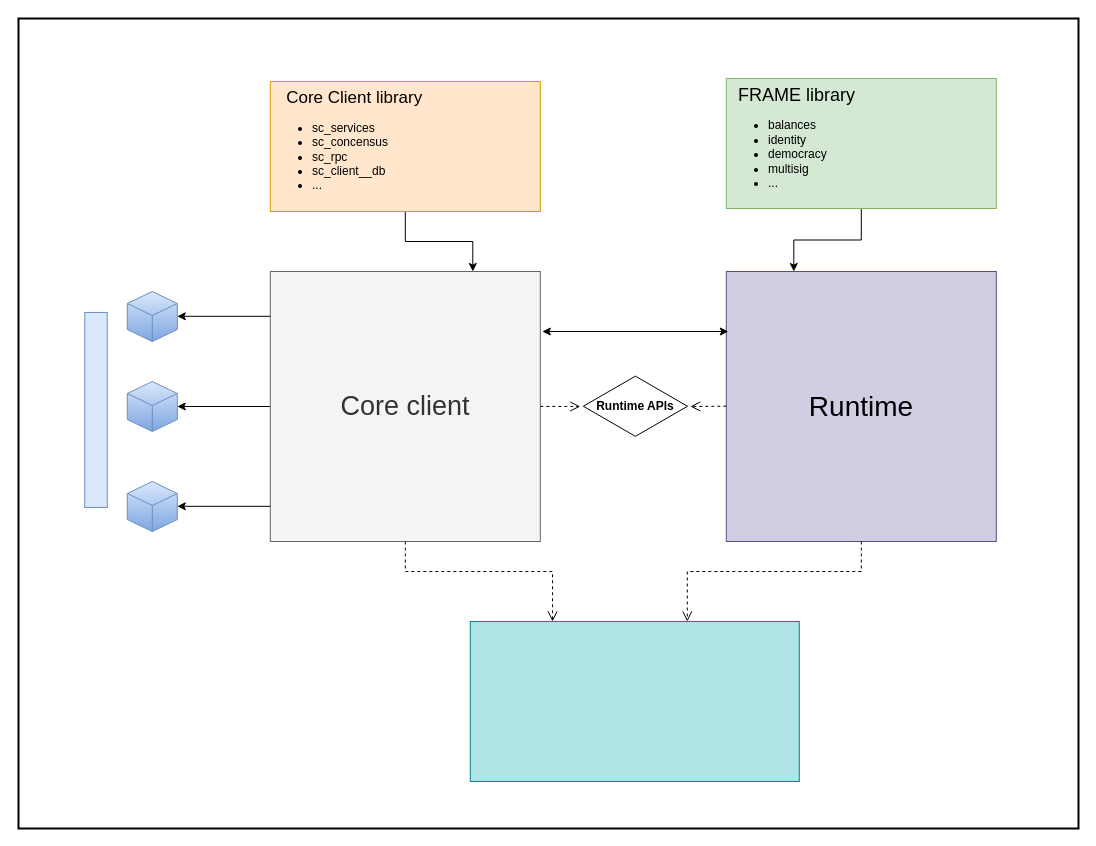
This 1096x846 diagram has some shape labels left out. Here are the shapes that lost their labels. From the top down, the box of each, then its label:
(84, 312, 107, 508): Other nodes
(469, 620, 799, 782): Primitives consensus database core offchain runtime staking ...
